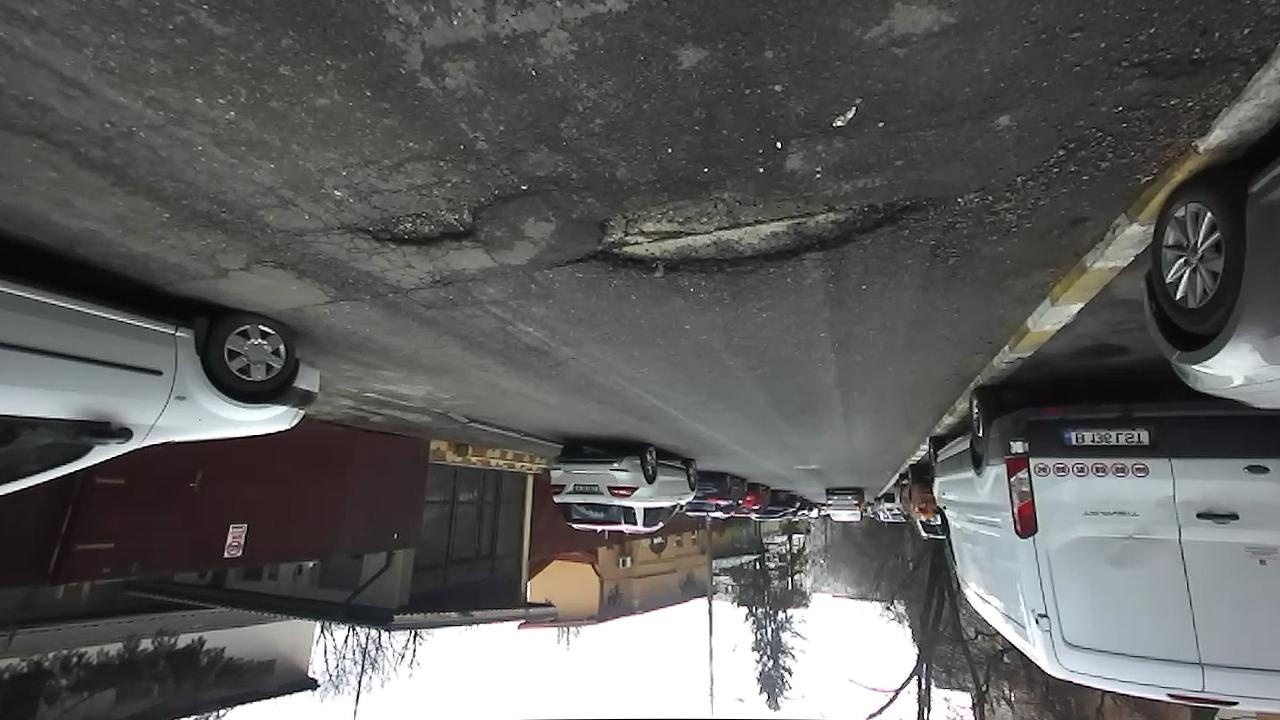pothole: (564, 186, 952, 281), (331, 188, 508, 257)
